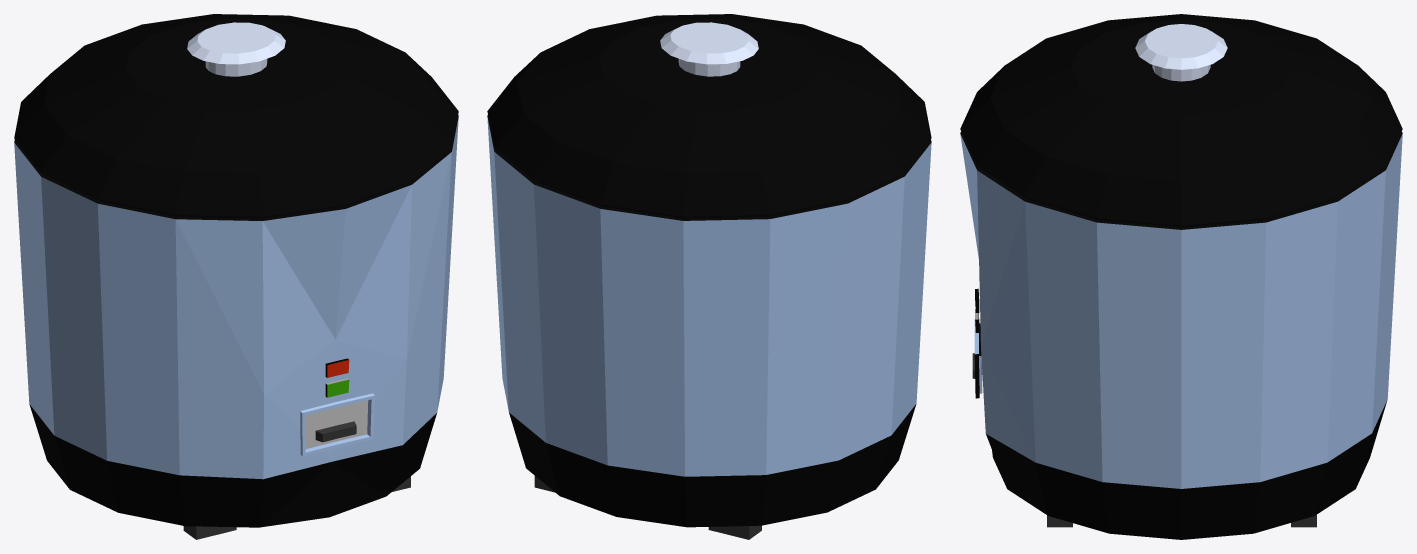
Rendered from rice_cooker_01.glb.
3 views of the same model, side by side, from view 1: azimuth 30°, elevation 25°; view 2: azimuth 150°, elevation 25°; view 3: azimuth 270°, elevation 25° (orthographic).
Visible parts, largest first — view 1: Cylinder; view 2: Cylinder; view 3: Cylinder.
Part boxes in pixels (box(x1,y1,x2,y2)): Cylinder: box(14, 14, 458, 539); Cylinder: box(487, 14, 931, 539); Cylinder: box(960, 14, 1402, 539).
Size of the model in its own units: 0.4171 by 0.4359 by 0.4038.
1 material, 1 textured.
